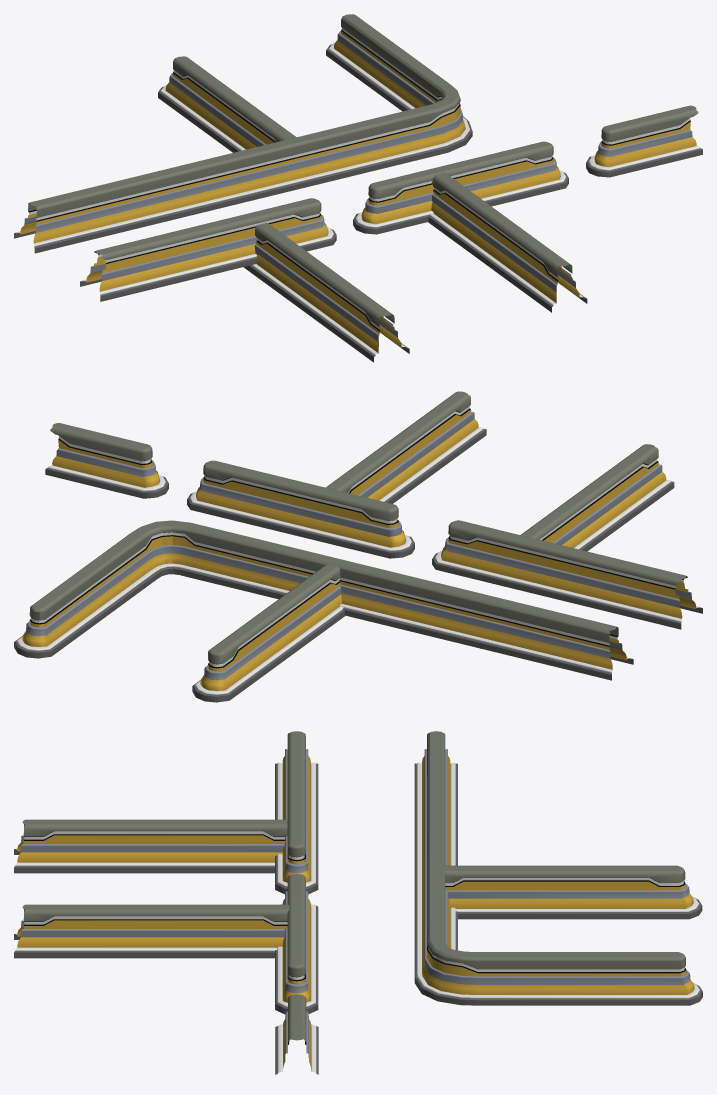
Rendered from Level34_Small_walls.fbx.
3 renders of one model, top to bottom at view 1: azimuth 30°, elevation 25°; view 2: azimuth 150°, elevation 25°; view 3: azimuth 270°, elevation 25°, orthographic. The views are drawn at different scales.
Parts seen in each view (by area): view 1: Small_wall_L53, Small_wallv1_29, Small_wallv1_26, Small_wallv1_30, Small_wallv1_31, Small_wallv1_20, Small_wallv1_23; view 2: Small_wall_L53, Small_wallv1_29, Small_wallv1_26, Small_wallv1_20, Small_wallv1_30, Small_wallv1_31, Small_wallv1_23; view 3: Small_wall_L53, Small_wallv1_30, Small_wallv1_31, Small_wallv1_20, Small_wallv1_29, Small_wallv1_26, Small_wallv1_23.
Boxes of the visible parts, x1,y1,x2,y2 form: Small_wall_L53: (14, 14, 472, 253); Small_wallv1_29: (80, 198, 336, 301); Small_wallv1_26: (353, 141, 568, 234); Small_wallv1_30: (428, 172, 587, 312); Small_wallv1_31: (243, 223, 409, 362); Small_wallv1_20: (158, 56, 296, 152); Small_wallv1_23: (586, 105, 702, 177); Small_wall_L53: (14, 520, 633, 680); Small_wallv1_29: (432, 520, 702, 629); Small_wallv1_26: (187, 460, 414, 558); Small_wallv1_20: (192, 563, 345, 702); Small_wallv1_30: (326, 391, 486, 503); Small_wallv1_31: (520, 444, 674, 551); Small_wallv1_23: (45, 423, 168, 498); Small_wall_L53: (414, 731, 702, 1005); Small_wallv1_30: (14, 904, 289, 958); Small_wallv1_31: (14, 819, 287, 873); Small_wallv1_20: (443, 865, 702, 919); Small_wallv1_29: (275, 731, 318, 894); Small_wallv1_26: (275, 874, 318, 1014); Small_wallv1_23: (275, 994, 318, 1074).
Size of the model in its own units: 587 by 43.41 by 546.
